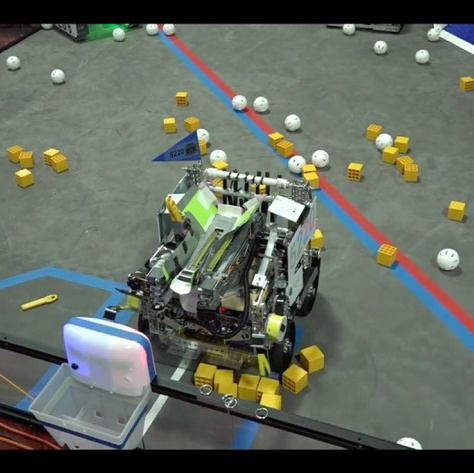robot: (128, 131, 327, 390)
